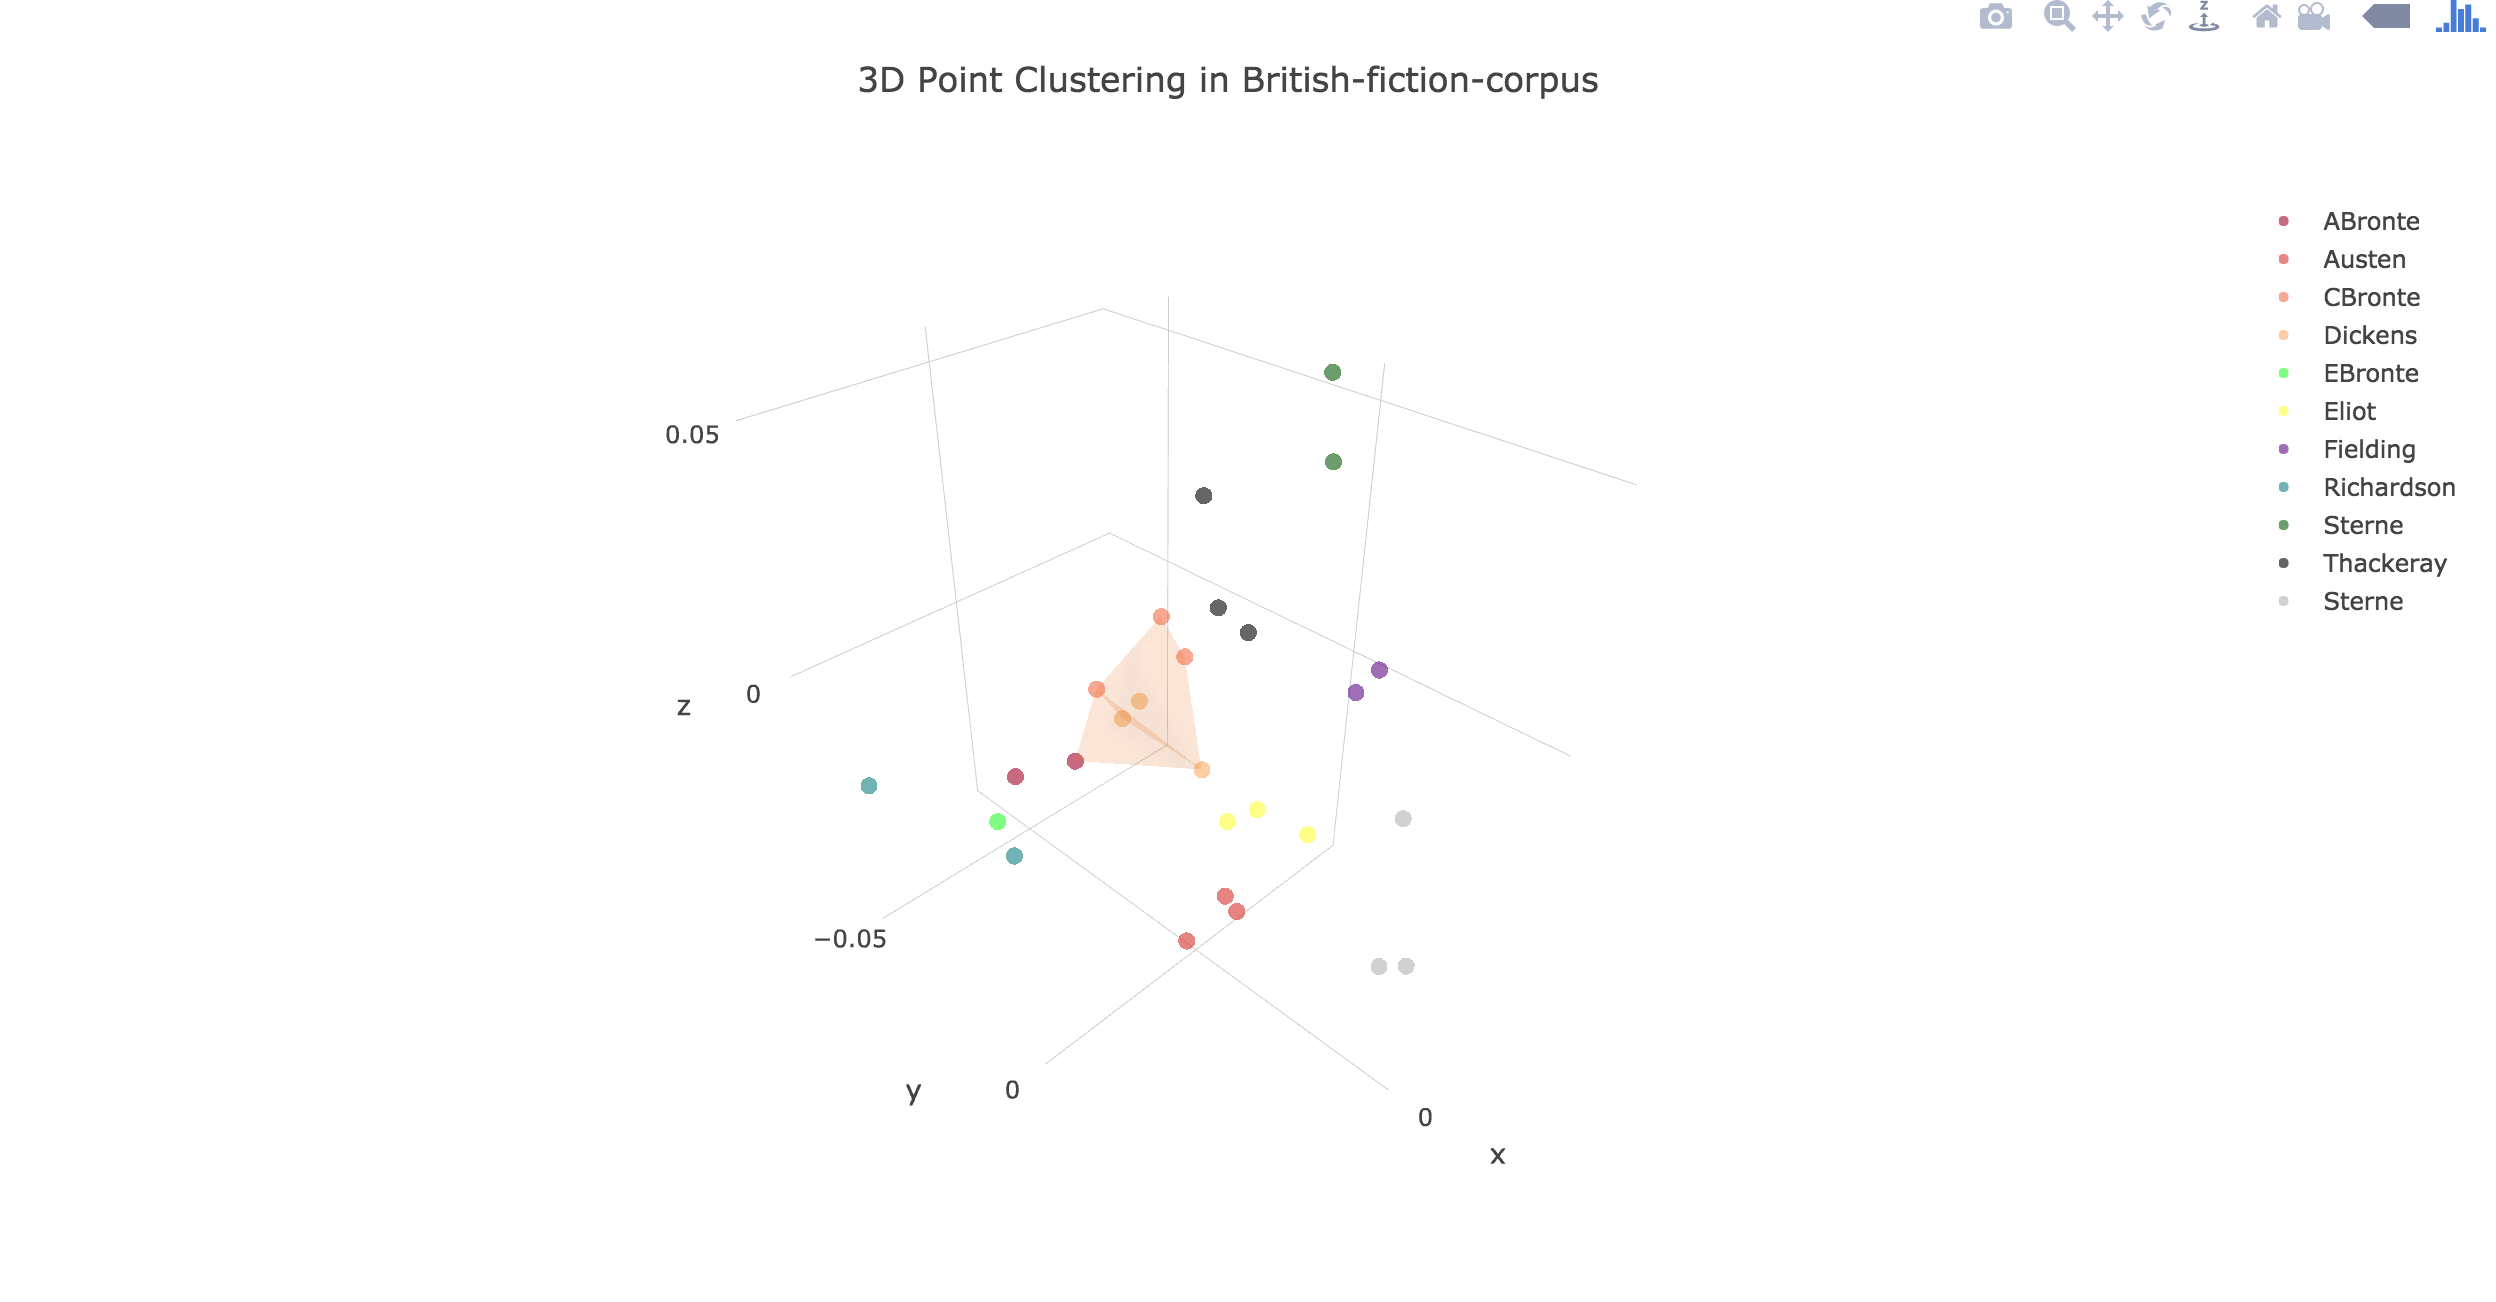

The dashboard page shown, as its layout file describes it:
{"tool":"tableau","page":{"name":"Dashboard 1","canvas":[1000,800],"ordinal":0},"visuals":[{"type":"worksheet","title":"Sheet 2","mark":"Circle","box":[0,0,420,800]},{"type":"worksheet","title":"Sheet 1","mark":"Circle","box":[420,0,420,800]},{"type":"legend","title":"Sheet 2","param":"[federated.04id06k0r0qn6o1epfiiu1t74m8r].[none:country_txt:nk]","box":[840,0,160,710]},{"type":"filter","title":"Sheet 1","param":"[federated.04id06k0r0qn6o1epfiiu1t74m8r].[none:iyear:qk]","box":[840,710,160,69]}]}

Visuals, with their boxes on the page's 1000x800 design canvas (x1, y1, x2, y2). These are canvas units, not pixel positions in the 2496x1302 screenshot, which may show the page scaled, cropped or inside an application window:
"Sheet 2" worksheet (Circle marks): box=[0, 0, 420, 800]
"Sheet 1" worksheet (Circle marks): box=[420, 0, 840, 800]
"Sheet 2" legend: box=[840, 0, 1000, 710]
"Sheet 1" filter: box=[840, 710, 1000, 779]
